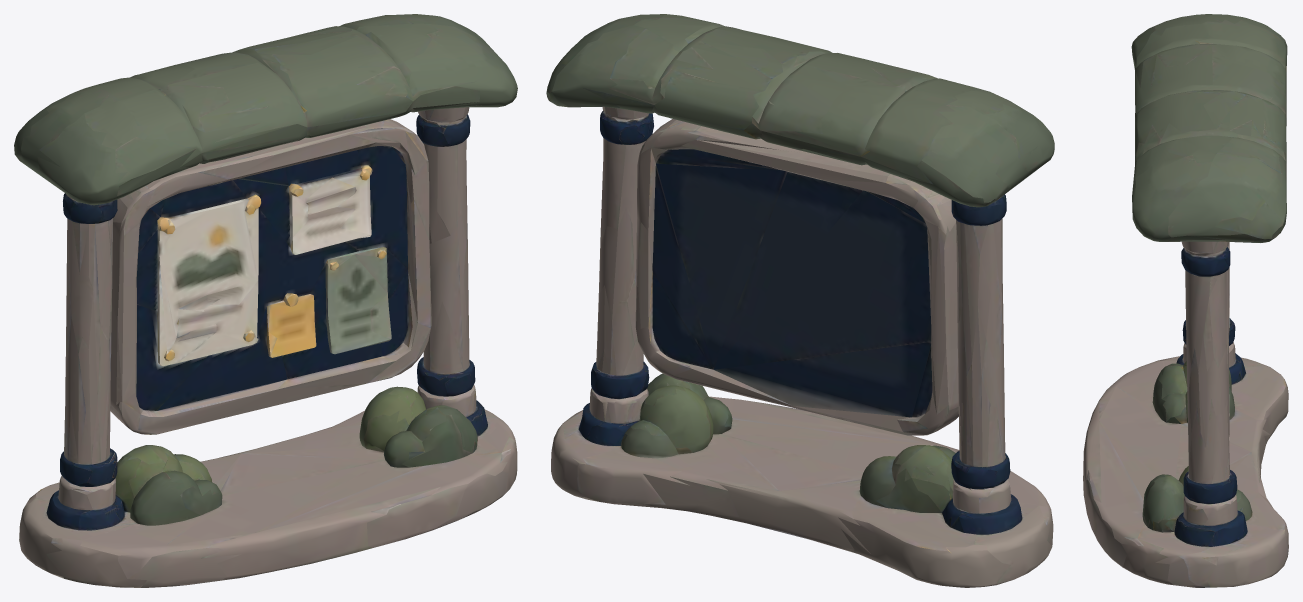
File: noticeBoard.glb
3 renders of one model, left to right at view 1: azimuth 30°, elevation 25°; view 2: azimuth 150°, elevation 25°; view 3: azimuth 270°, elevation 25°, orthographic. The views are drawn at different scales.
Visible parts, largest first — view 1: Mesh_0; view 2: Mesh_0; view 3: Mesh_0.
Boxes of the visible parts, x1,y1,x2,y2 form: Mesh_0: [14, 14, 517, 587]; Mesh_0: [546, 14, 1054, 587]; Mesh_0: [1083, 14, 1288, 587].
Size of the model in its own units: 1.2 by 1.09 by 0.5085.
Materials: 1 (1 with a texture image).
